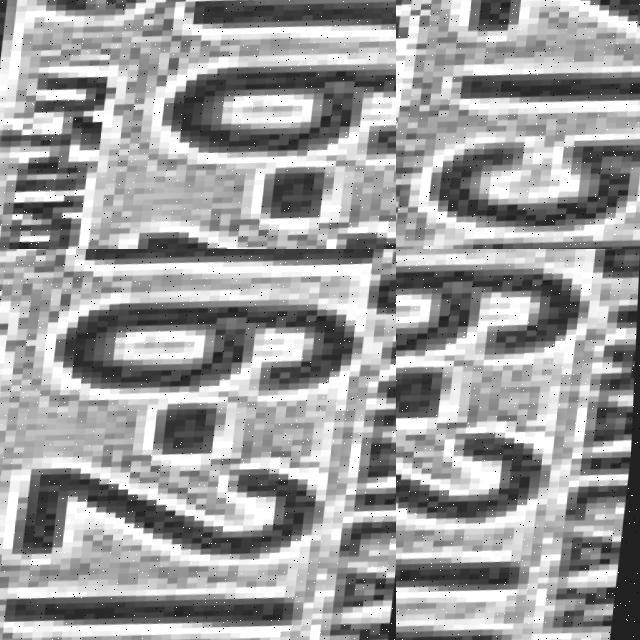license-plate: (0, 249, 396, 640), (0, 0, 396, 249), (396, 249, 640, 640), (396, 0, 640, 249)
